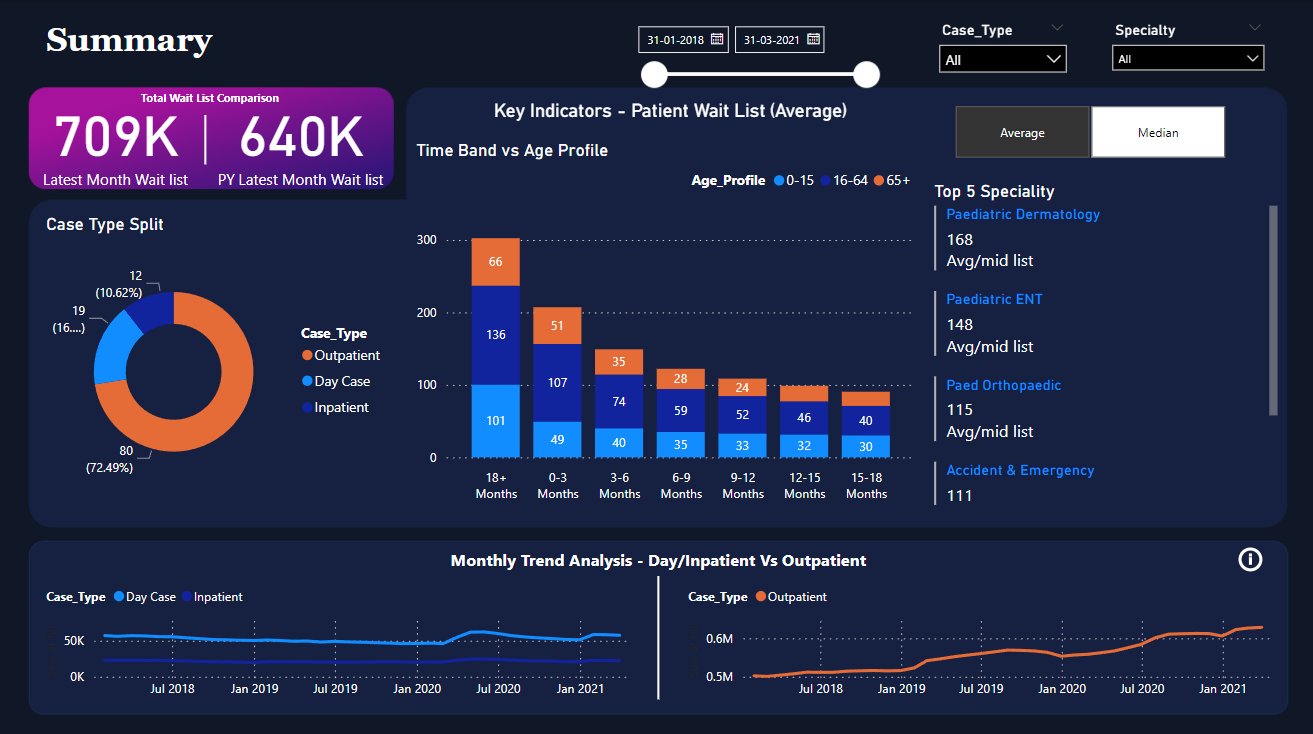

The dashboard page shown, as its layout file describes it:
{"tool":"powerbi","page":{"name":"Summary","canvas":[1280,720],"ordinal":0},"visuals":[{"type":"card","fields":{"Values":["All_Data.Latest Month Wait list"]},"box":[24,80,176,112],"z":0},{"type":"card","fields":{"Values":["All_Data.PY Lates Month watiing list"]},"box":[200,80,184,112],"z":1000},{"type":"slicer","fields":{"Values":["Table.Calculation Method"]},"box":[904,96,312,64],"z":2000},{"type":"donutChart","title":"Case Type Split","fields":{"Category":["All_Data.Case_Type"],"Y":["All_Data.Avg/mid list"]},"box":[40,208,344,288],"z":3000},{"type":"columnChart","title":"Time Band vs Age Profile","fields":{"Category":["All_Data.Time_Bands"],"Y":["All_Data.Avg/mid list"],"Series":["All_Data.Age_Profile"]},"box":[400,136,496,360],"z":4000},{"type":"multiRowCard","title":"Top 5 Speciality","fields":{"Values":["All_Data.Avg/mid list","All_Data.Specialty"]},"box":[904,176,344,320],"z":5000},{"type":"card","fields":{"Values":["All_Data.Nodataright"]},"box":[680,568,512,112],"z":6000},{"type":"card","fields":{"Values":["All_Data.Nodataleft"]},"box":[80,568,512,112],"z":7000},{"type":"lineChart","fields":{"Y":["Sum(All_Data.Total)"],"Category":["All_Data.Archive_Date"],"Series":["All_Data.Case_Type"]},"box":[40,560,592,128],"z":8000},{"type":"lineChart","fields":{"Y":["Sum(All_Data.Total)"],"Category":["All_Data.Archive_Date"],"Series":["All_Data.Case_Type"]},"box":[664,560,592,128],"z":9000},{"type":"slicer","fields":{"Values":["All_Data.Archive_Date"]},"box":[608,16,256,72],"z":10000},{"type":"slicer","fields":{"Values":["All_Data.Case_Type"]},"box":[904,16,144,64],"z":11000},{"type":"slicer","fields":{"Values":["All_Data.Specialty"]},"box":[1072,16,168,64],"z":12000},{"type":"textbox","box":[40,16,216,48],"z":13000},{"type":"shape","box":[152,112,96,48],"z":14000},{"type":"shape","box":[592,560,96,120],"z":15000},{"type":"textbox","box":[344,528,592,32],"z":16000},{"type":"card","fields":{"Values":["All_Data.Dynamic Title"]},"box":[464,88,376,40],"z":17000},{"type":"actionButton","box":[1200,528,32,32],"z":18000},{"type":"textbox","box":[32,80,344,32],"z":19000}]}

Visuals, with their boxes in screenshot pixels (x1, y1, x2, y2), scaled from the page's 1280x720 canvas onto the 1313x734 screenshot:
card - All_Data.Latest Month Wait list: select_region(25, 82, 205, 196)
card - All_Data.PY Lates Month watiing list: select_region(205, 82, 394, 196)
slicer - Table.Calculation Method: select_region(927, 98, 1247, 163)
"Case Type Split" donutChart: select_region(41, 212, 394, 506)
"Time Band vs Age Profile" columnChart: select_region(410, 139, 919, 506)
"Top 5 Speciality" multiRowCard: select_region(927, 179, 1280, 506)
card - All_Data.Nodataright: select_region(698, 579, 1223, 693)
card - All_Data.Nodataleft: select_region(82, 579, 607, 693)
lineChart - Sum(All_Data.Total) x All_Data.Archive_Date: select_region(41, 571, 648, 701)
lineChart - Sum(All_Data.Total) x All_Data.Archive_Date: select_region(681, 571, 1288, 701)
slicer - All_Data.Archive_Date: select_region(624, 16, 886, 90)
slicer - All_Data.Case_Type: select_region(927, 16, 1075, 82)
slicer - All_Data.Specialty: select_region(1100, 16, 1272, 82)
textbox: select_region(41, 16, 263, 65)
shape: select_region(156, 114, 254, 163)
shape: select_region(607, 571, 706, 693)
textbox: select_region(353, 538, 960, 571)
card - All_Data.Dynamic Title: select_region(476, 90, 862, 130)
actionButton: select_region(1231, 538, 1264, 571)
textbox: select_region(33, 82, 386, 114)
